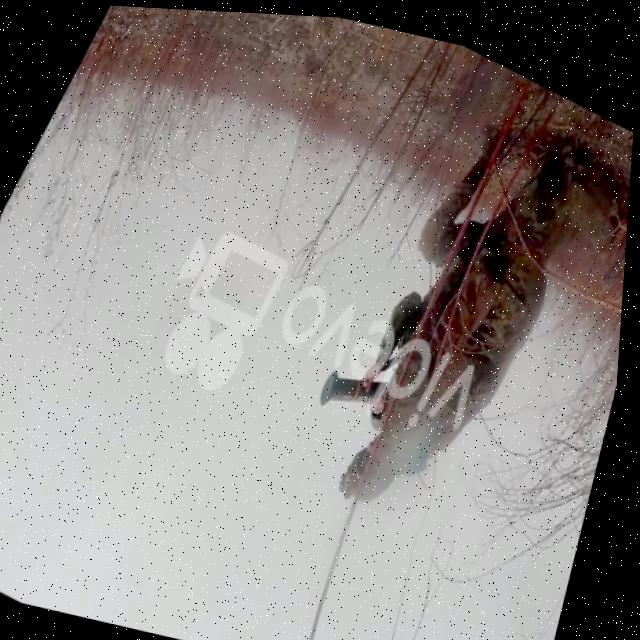rocket: (315, 335, 407, 427)
